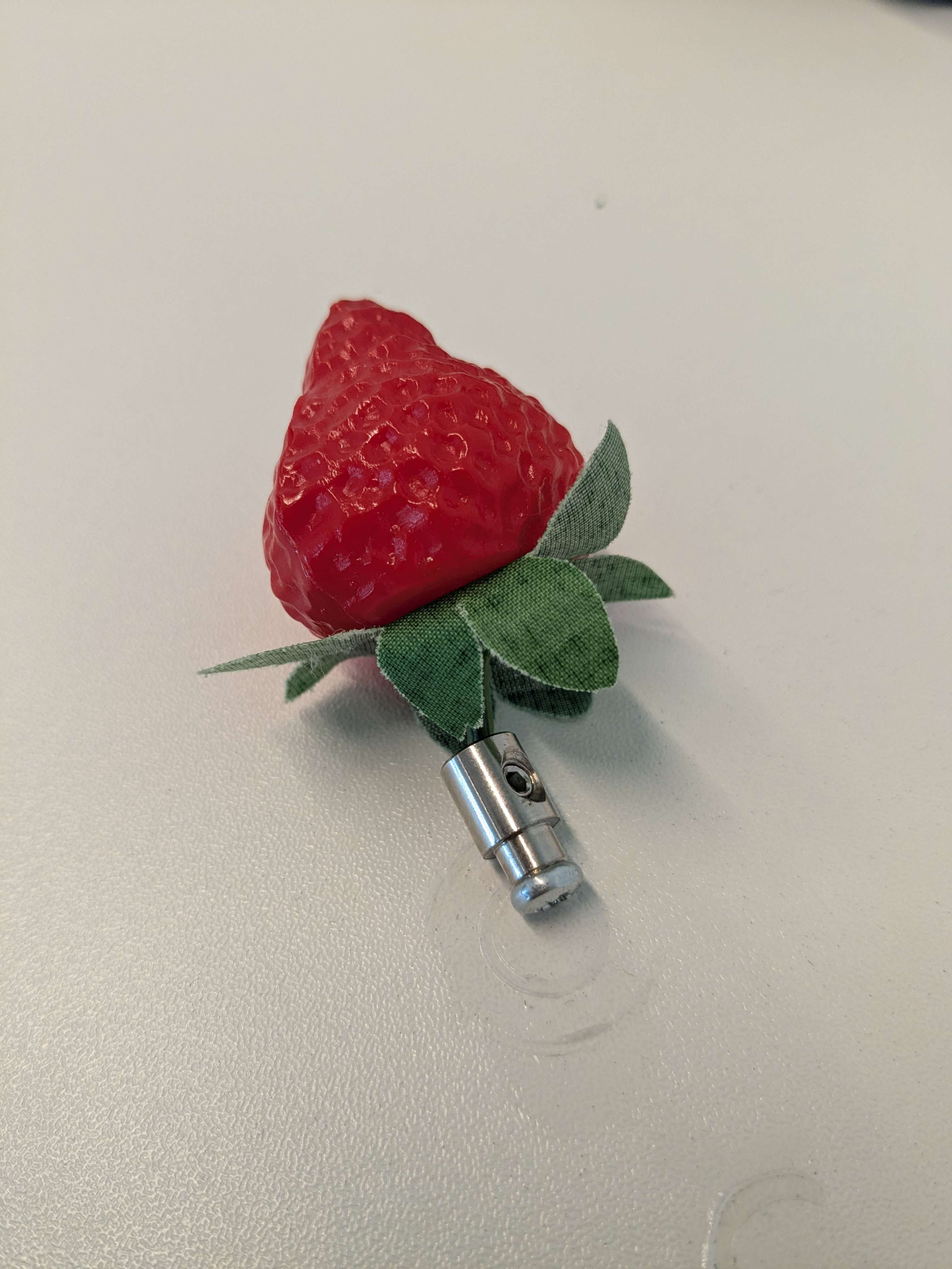Strawberry: (241, 261, 613, 651)
